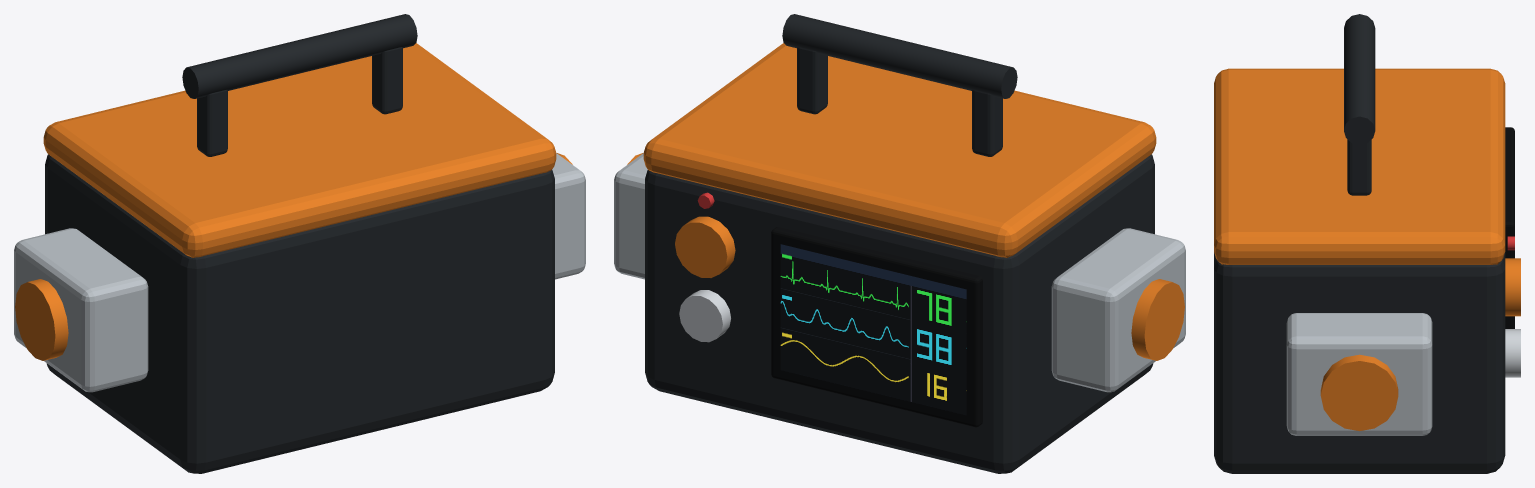
Rendered from Defibrillator.glb.
The picture shows the model from 3 angles, left to right: view 1: azimuth 30°, elevation 25°; view 2: azimuth 150°, elevation 25°; view 3: azimuth 270°, elevation 25°; orthographic projection. The views are drawn at different scales.
Parts seen in each view (by area): view 1: Body.004, TopCover, PaddleHolder, HandleBar.001, PaddleHolder.001, PaddleFace, HandlePost.003, HandlePost.002; view 2: Body.004, TopCover, Screen.001, PaddleHolder, Bezel.001, HandleBar.001, PaddleHolder.001, PaddleFace, ShockButton, EnergyDial, HandlePost.003, HandlePost.002; view 3: TopCover, Body.004, PaddleHolder.001, PaddleFace.001, HandleBar.001, Bezel.001, HandlePost.003, ShockButton, EnergyDial.
Boxes of the visible parts, box(x1,y1,x2,y2) form: Body.004: box(45, 154, 554, 473); TopCover: box(43, 43, 556, 257); PaddleHolder: box(14, 228, 148, 392); HandleBar.001: box(182, 14, 417, 98); PaddleHolder.001: box(552, 153, 585, 279); PaddleFace: box(15, 279, 68, 360); HandlePost.003: box(372, 47, 402, 114); HandlePost.002: box(197, 90, 227, 156); Body.004: box(645, 154, 1154, 473); TopCover: box(643, 43, 1156, 257); Screen.001: box(780, 244, 966, 415); PaddleHolder: box(1051, 228, 1185, 392); Bezel.001: box(771, 227, 982, 427); HandleBar.001: box(782, 14, 1017, 98); PaddleHolder.001: box(614, 153, 647, 279); PaddleFace: box(1131, 279, 1184, 360); ShockButton: box(675, 216, 735, 277); EnergyDial: box(679, 290, 730, 342); HandlePost.003: box(797, 47, 827, 114); HandlePost.002: box(972, 90, 1002, 156); TopCover: box(1214, 68, 1505, 264); Body.004: box(1214, 252, 1505, 473); PaddleHolder.001: box(1286, 313, 1432, 435); PaddleFace.001: box(1320, 354, 1398, 431); HandleBar.001: box(1344, 14, 1375, 144); Bezel.001: box(1505, 127, 1514, 328); HandlePost.003: box(1347, 139, 1371, 195); ShockButton: box(1505, 258, 1520, 316); EnergyDial: box(1505, 329, 1520, 377).
Size of the model in its own units: 0.484 by 0.298 by 0.253.
7 materials, 1 textured.
